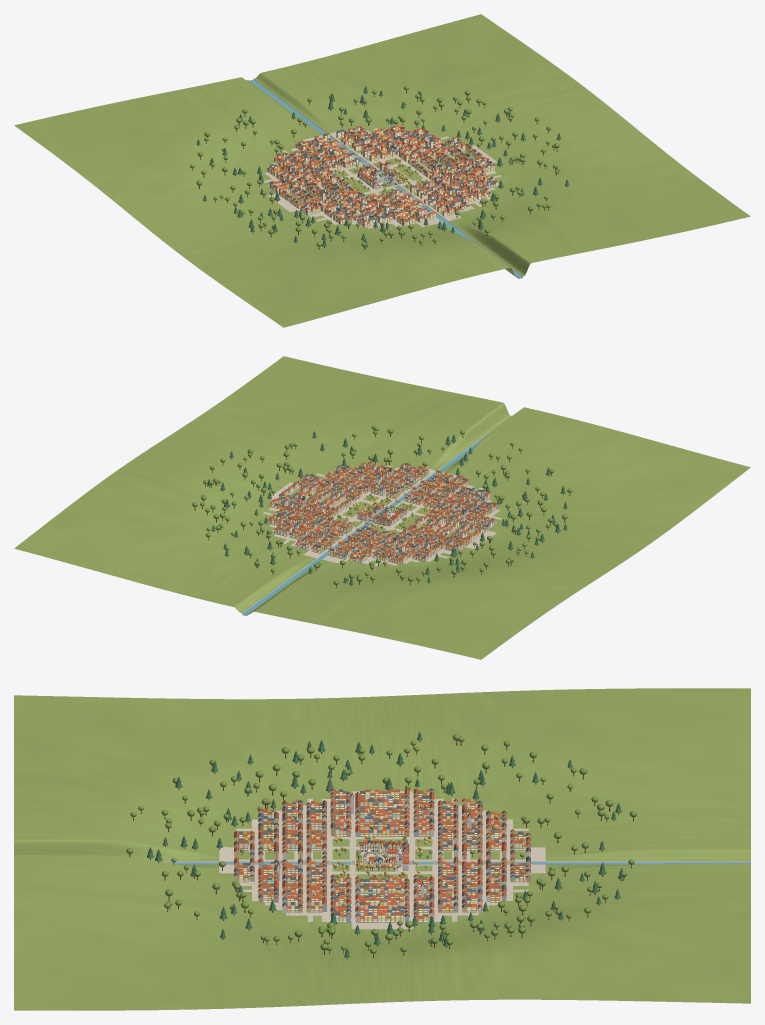
File: city.glb
3 renders of one model, top to bottom at view 1: azimuth 30°, elevation 25°; view 2: azimuth 150°, elevation 25°; view 3: azimuth 270°, elevation 25°, orthographic. The views are drawn at different scales.
Parts seen in each view (by area): view 1: far_ground, far_trees_leaf_green, far_town_glass, far_town_roof_brown, far_town_tile, far_town_roof_red, far_town_roof_slate, far_trees_pine, far_town_wall_2, far_town_wall_6, far_town_wall_3, far_town_wall_1 (+7 smaller); view 2: far_ground, far_trees_leaf_green, far_town_glass, far_town_tile, far_town_roof_brown, far_town_roof_red, far_town_roof_slate, far_trees_pine, far_town_wall_2, far_town_wall_6, far_town_wall_4, far_town_wall_3 (+7 smaller); view 3: far_ground, far_trees_leaf_green, far_town_tile, far_town_roof_red, far_town_roof_brown, far_town_roof_slate, far_trees_pine, far_town_glass, far_town_wall_2, far_town_wall_6, far_town_wall_3, far_town_wall_5 (+7 smaller).
Boxes of the visible parts, x1=… form: far_ground: x1=14, y1=14, x2=750, y2=327; far_trees_leaf_green: x1=190, y1=86, x2=560, y2=246; far_town_glass: x1=269, y1=127, x2=496, y2=226; far_town_roof_brown: x1=269, y1=126, x2=497, y2=221; far_town_tile: x1=270, y1=124, x2=494, y2=220; far_town_roof_red: x1=271, y1=125, x2=493, y2=223; far_town_roof_slate: x1=268, y1=125, x2=495, y2=220; far_trees_pine: x1=196, y1=86, x2=569, y2=247; far_town_wall_2: x1=273, y1=130, x2=493, y2=224; far_town_wall_6: x1=290, y1=126, x2=497, y2=223; far_town_wall_3: x1=269, y1=129, x2=495, y2=226; far_town_wall_1: x1=274, y1=131, x2=495, y2=223; far_ground: x1=14, y1=356, x2=750, y2=659; far_trees_leaf_green: x1=192, y1=425, x2=572, y2=584; far_town_glass: x1=268, y1=464, x2=495, y2=563; far_town_tile: x1=267, y1=463, x2=490, y2=560; far_town_roof_brown: x1=273, y1=462, x2=496, y2=559; far_town_roof_red: x1=274, y1=462, x2=495, y2=561; far_town_roof_slate: x1=274, y1=462, x2=493, y2=559; far_trees_pine: x1=207, y1=431, x2=567, y2=584; far_town_wall_2: x1=277, y1=466, x2=489, y2=561; far_town_wall_6: x1=267, y1=463, x2=491, y2=562; far_town_wall_4: x1=269, y1=469, x2=491, y2=561; far_town_wall_3: x1=276, y1=464, x2=497, y2=564; far_ground: x1=14, y1=688, x2=750, y2=1010; far_trees_leaf_green: x1=126, y1=734, x2=636, y2=953; far_town_tile: x1=234, y1=788, x2=530, y2=918; far_town_roof_red: x1=234, y1=788, x2=530, y2=918; far_town_roof_brown: x1=234, y1=789, x2=530, y2=917; far_town_roof_slate: x1=234, y1=788, x2=530, y2=916; far_trees_pine: x1=147, y1=731, x2=625, y2=957; far_town_glass: x1=239, y1=792, x2=525, y2=921; far_town_wall_2: x1=234, y1=797, x2=530, y2=922; far_town_wall_6: x1=243, y1=792, x2=530, y2=922; far_town_wall_3: x1=239, y1=792, x2=530, y2=922; far_town_wall_5: x1=234, y1=790, x2=514, y2=922.
Bounding box in the file's own units: 220 × 8.99 × 220.
